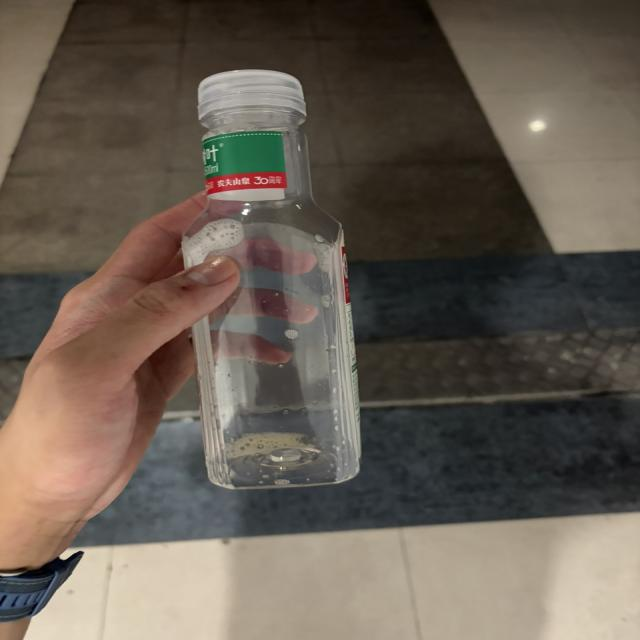empty: (181, 69, 361, 489)
